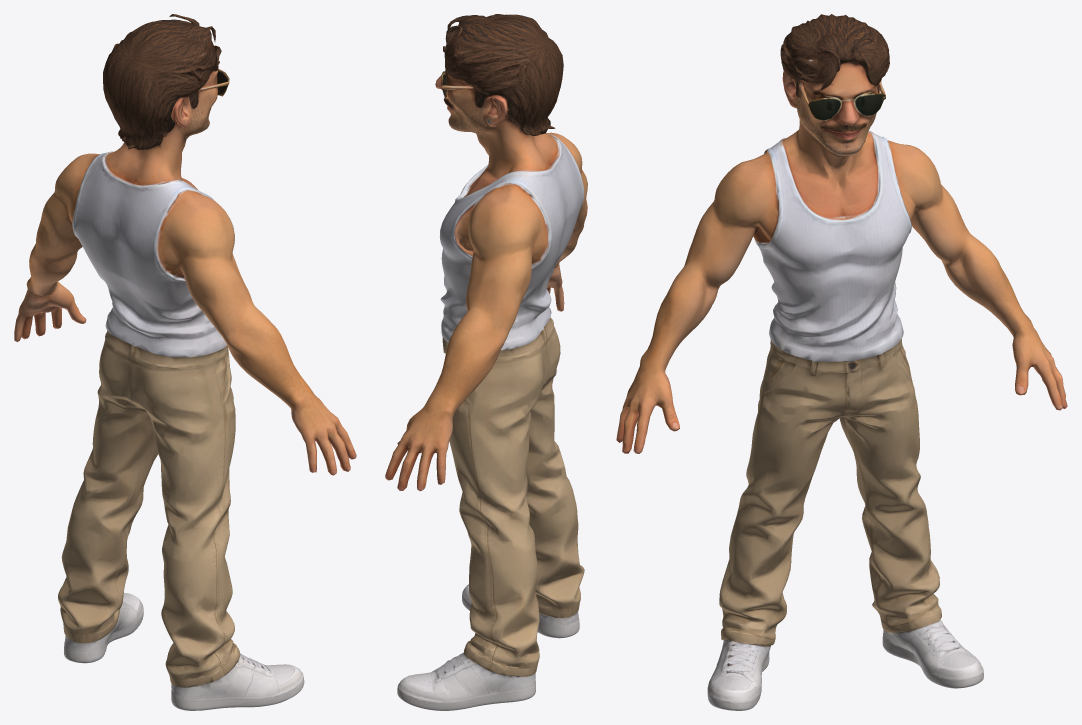
Rendered from jsan.glb.
3 renders of one model, left to right at view 1: azimuth 30°, elevation 25°; view 2: azimuth 150°, elevation 25°; view 3: azimuth 270°, elevation 25°, orthographic.
Visible parts, largest first — view 1: tripo_node_87e23922-a412-47f0-bf66-009187068d17; view 2: tripo_node_87e23922-a412-47f0-bf66-009187068d17; view 3: tripo_node_87e23922-a412-47f0-bf66-009187068d17.
Part boxes in pixels (x1,y1,x2,y2): tripo_node_87e23922-a412-47f0-bf66-009187068d17: (14, 14, 356, 710); tripo_node_87e23922-a412-47f0-bf66-009187068d17: (385, 14, 587, 710); tripo_node_87e23922-a412-47f0-bf66-009187068d17: (616, 14, 1067, 710).
Size of the model in its own units: 0.2686 by 0.9965 by 0.6244.
1 material, 1 textured.
